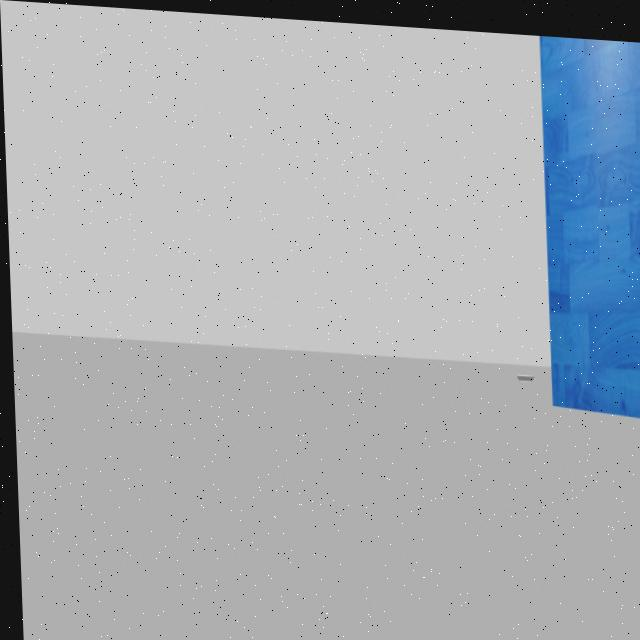bowl: (515, 364, 533, 380)
shelf: (532, 28, 640, 424)
